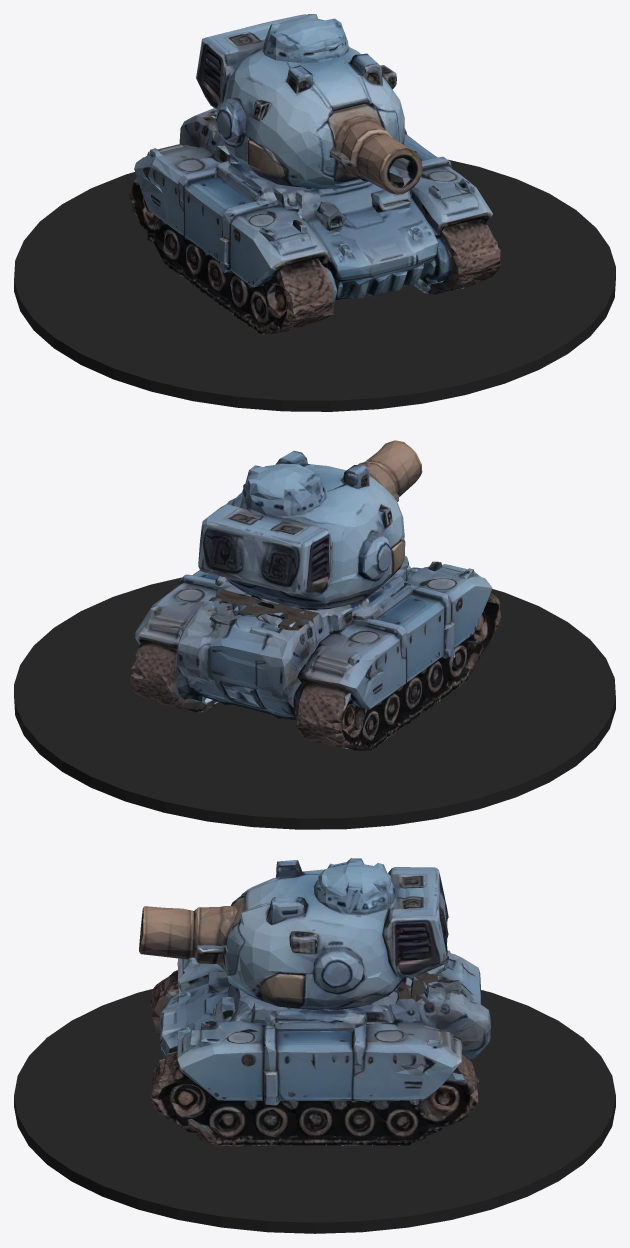
Rendered from siege-tank.glb.
3 views of the same model, one above another, from view 1: azimuth 30°, elevation 25°; view 2: azimuth 150°, elevation 25°; view 3: azimuth 270°, elevation 25° (orthographic).
Parts seen in each view (by area): view 1: base, figure; view 2: base, figure; view 3: figure, base.
Part boxes in pixels (x1,y1,x2,y2): base: [14, 159, 615, 411]; figure: [129, 14, 501, 334]; base: [14, 577, 615, 829]; figure: [130, 440, 501, 750]; figure: [139, 858, 490, 1146]; base: [14, 989, 615, 1233].
Bounding box in the file's own units: 5.91 × 2.62 × 5.91.
Materials: 2 (1 with a texture image).
